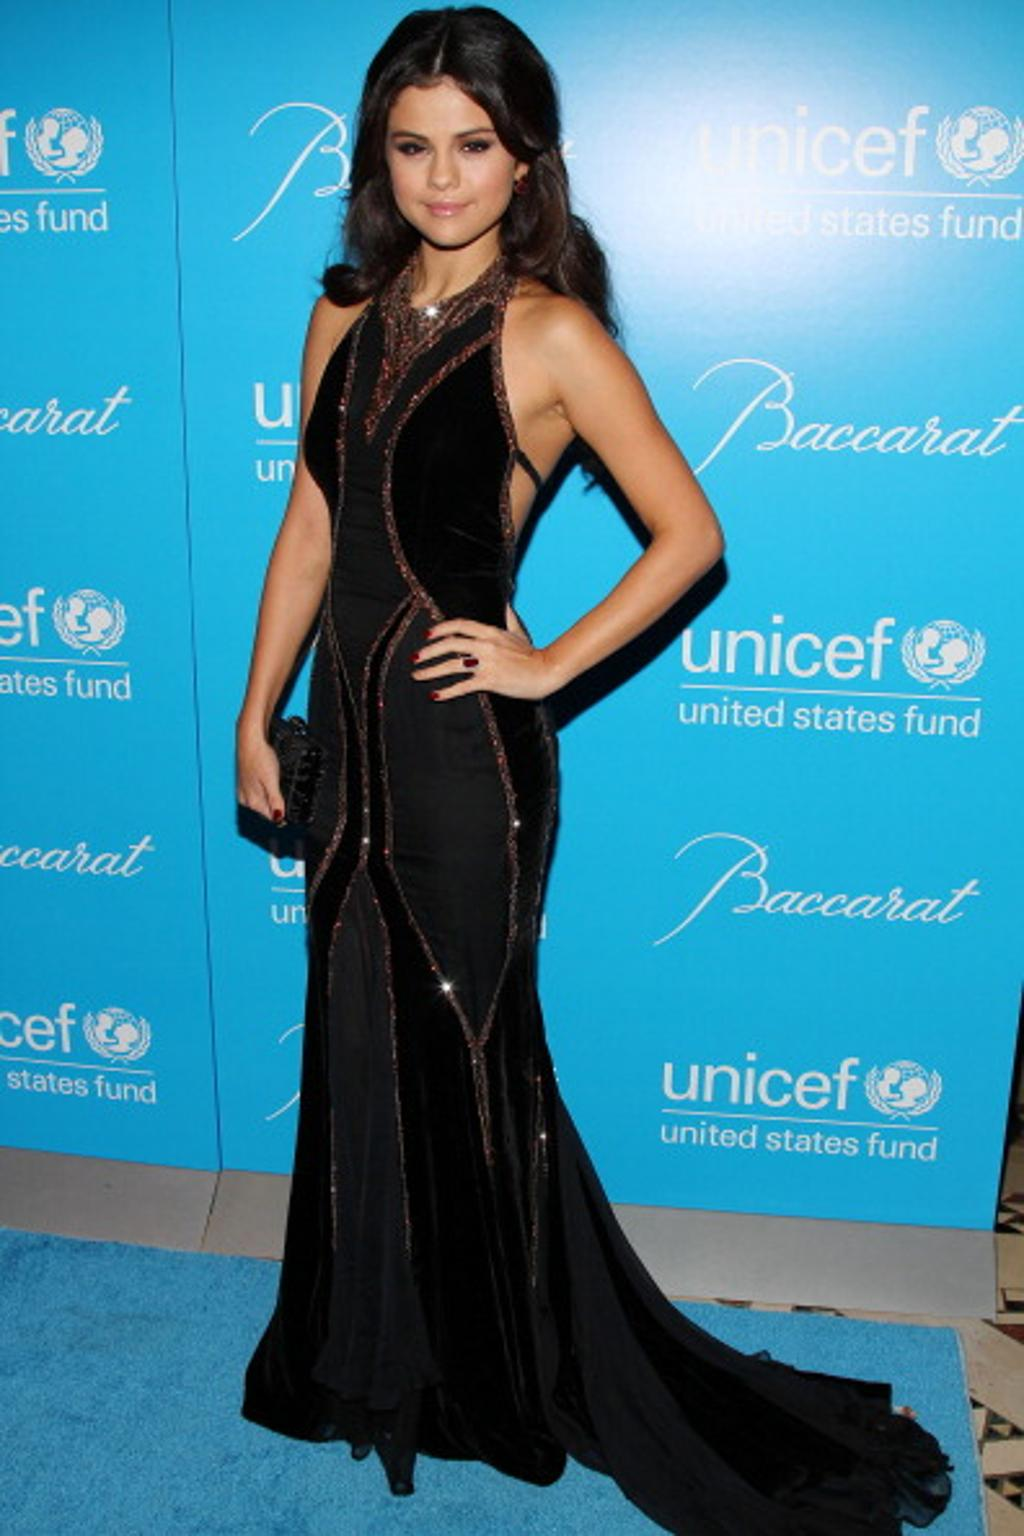face: (390, 81, 513, 246)
